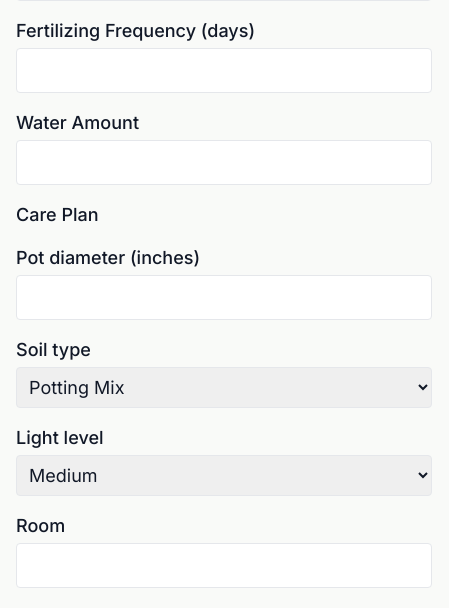
Test: selecting a name fetches defaults
(page scrolled)
Type "6" into the number field labelled "Pot diameter (inches)". click: (224, 298)
box: [16,275,432,320]
(page scrolled)
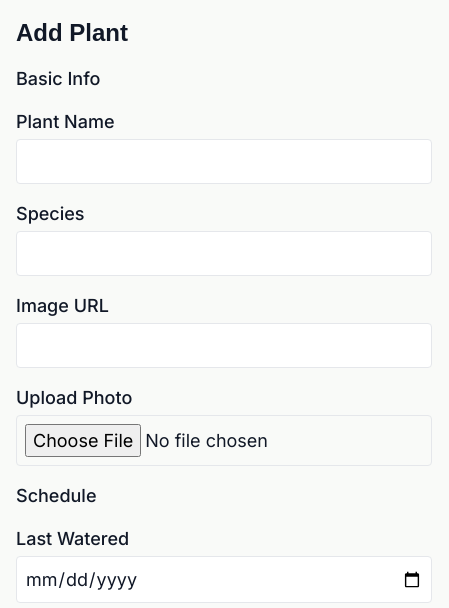
Type "Snake" into the field labelled "Plant Name". click: (224, 162)
box: [16,139,432,184]
(page scrolled)
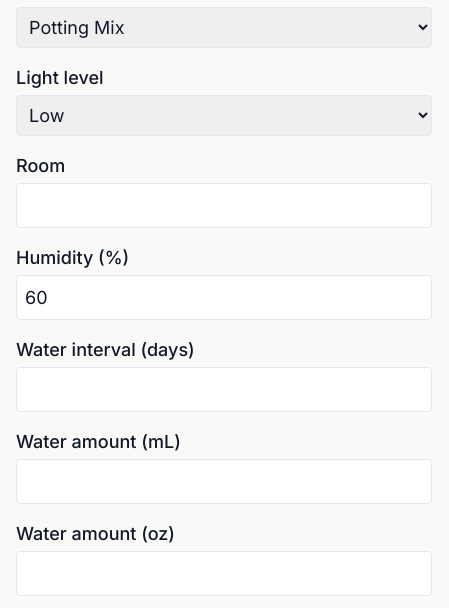
Expected: the dropdown labelled "Light level" shows "Low", [16,95,432,136]
Expected: the number field labelled "Humidity (%)" holds "60", [16,275,432,320]
